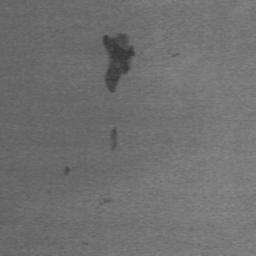Iron scale compression: (102, 34, 136, 95), (110, 127, 118, 152), (64, 166, 70, 176)
